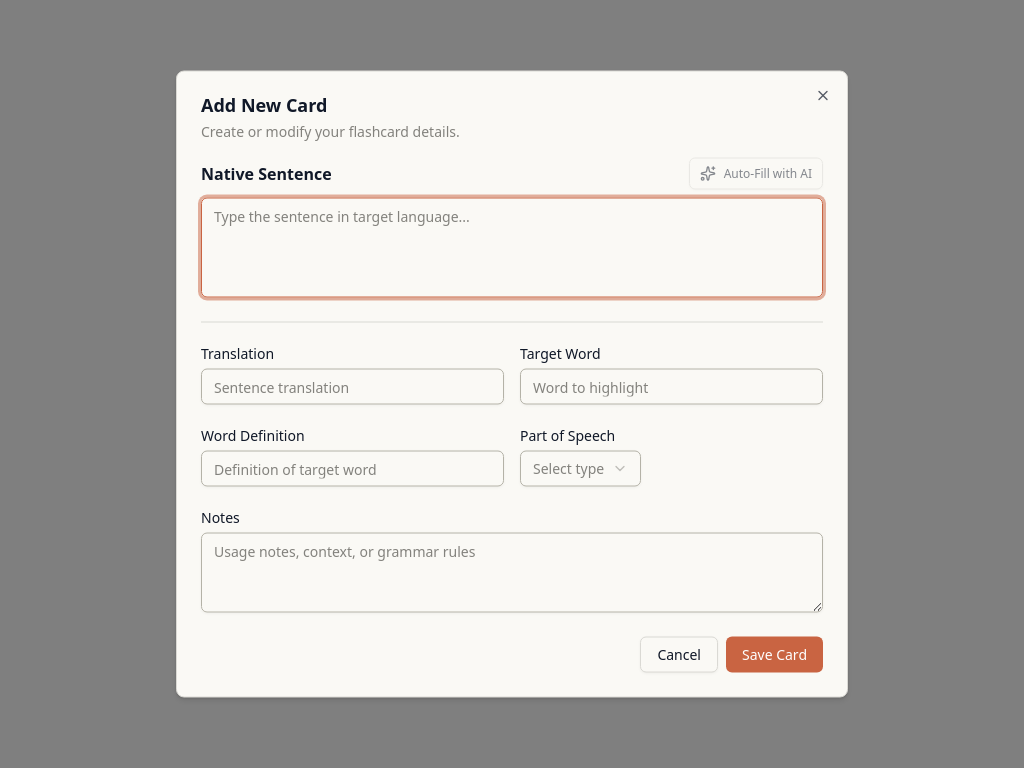
it: AddCardModal › validates required fields
What coordinates should you click on to do the following:
click the button "Save Card"
I would click on:
 (774, 654)
Its box is left=726, top=636, right=823, bottom=672.
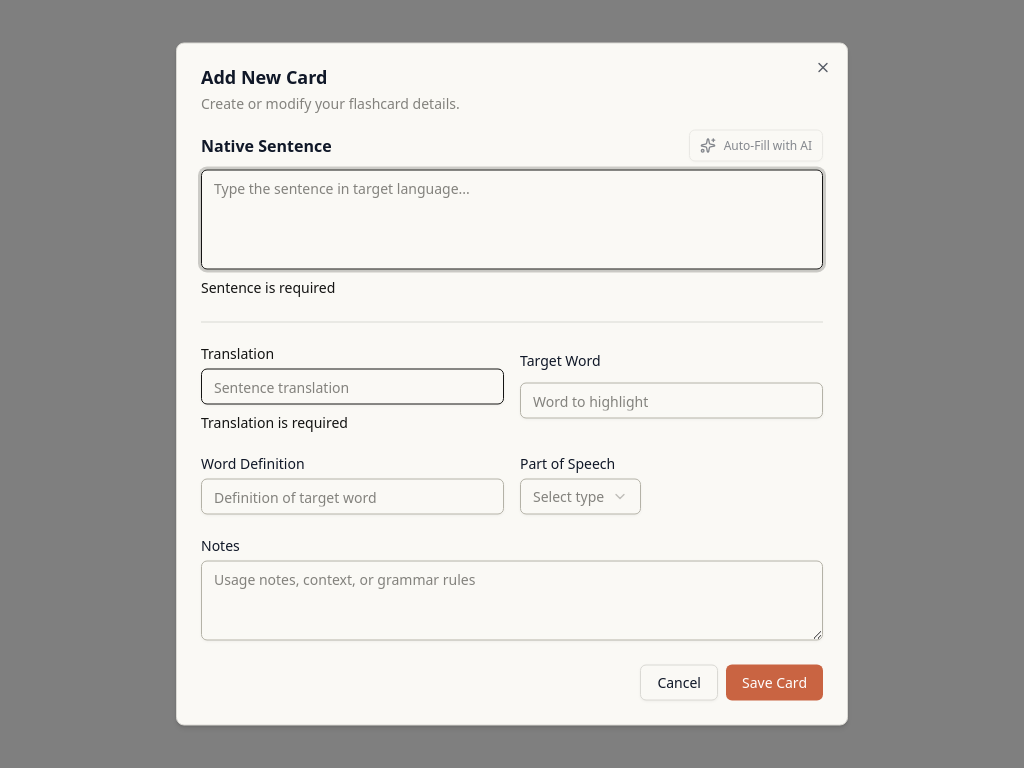
Now the text "Sentence is required" is shown, box left=201, top=278, right=335, bottom=296
Now the text "Translation is required" is shown, box left=201, top=412, right=348, bottom=432
